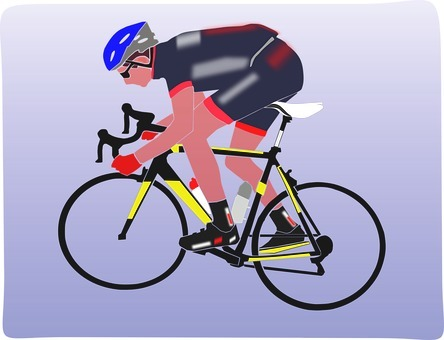bicycle: (54, 98, 389, 318)
person: (101, 21, 309, 256)
